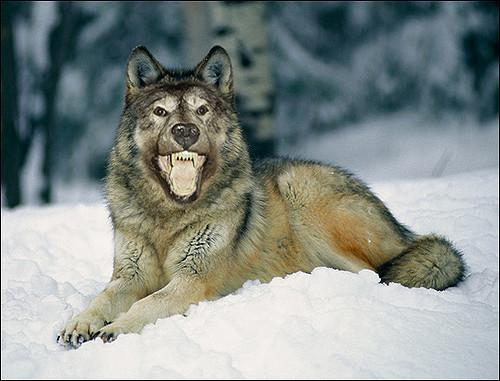Wolf: (57, 42, 468, 347)
